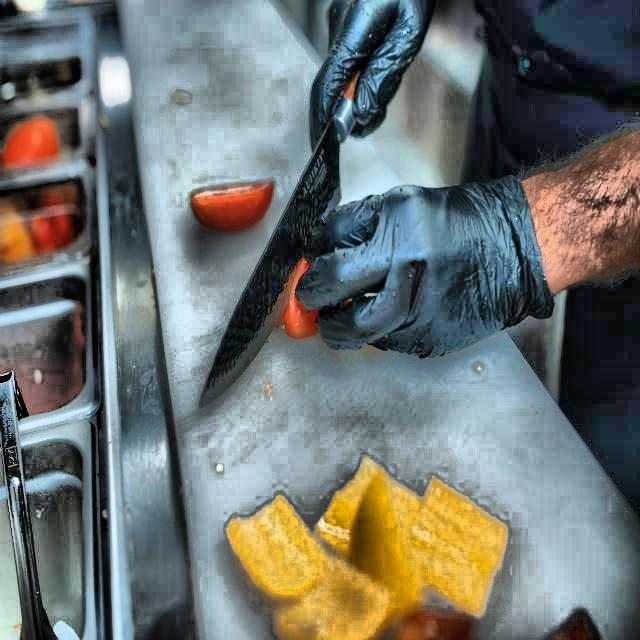knife: (196, 1, 420, 418)
